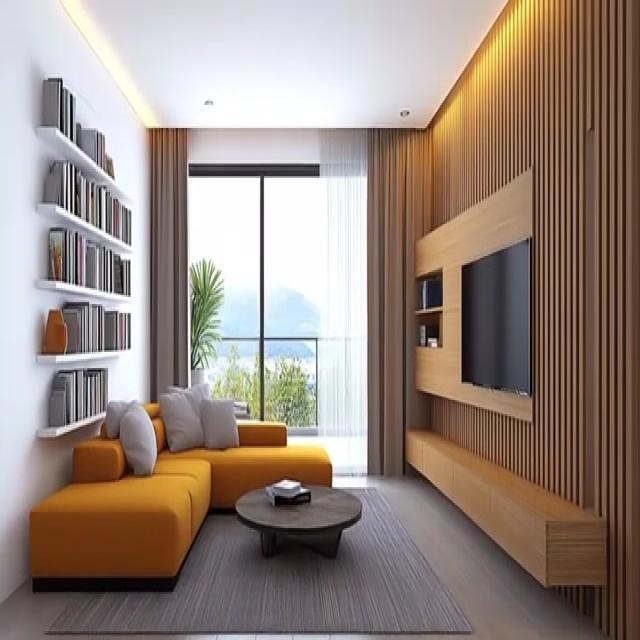obstacle: (28, 388, 332, 592), (234, 478, 362, 558)
